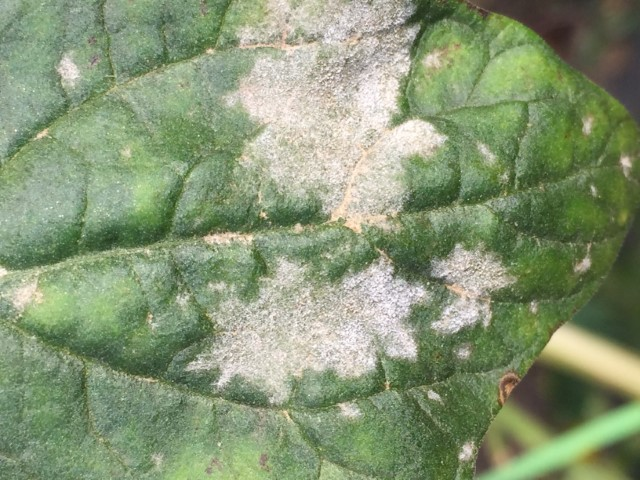oidio: (225, 1, 448, 234), (185, 253, 432, 404), (430, 240, 521, 334), (8, 278, 43, 311), (55, 53, 81, 89), (475, 137, 499, 167), (572, 243, 592, 275), (456, 438, 477, 462), (336, 402, 362, 418), (423, 49, 443, 69), (149, 448, 165, 472), (426, 386, 443, 406), (619, 154, 632, 180), (580, 116, 594, 134), (454, 345, 471, 359), (528, 298, 540, 316), (588, 183, 599, 199)
